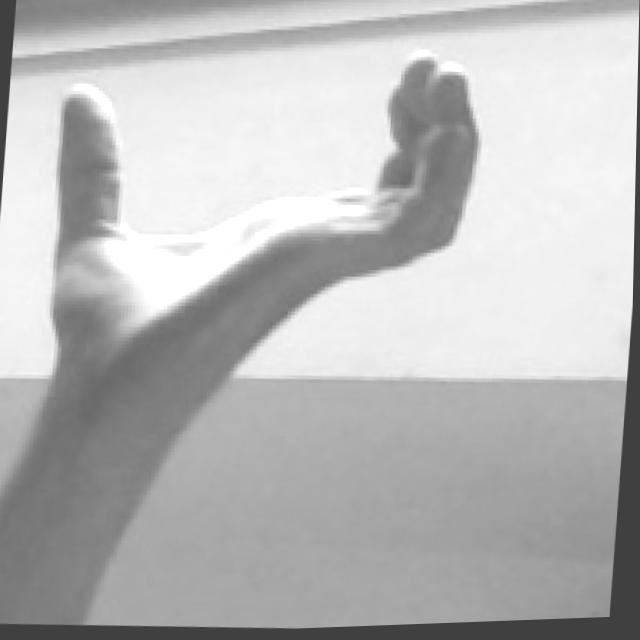space: (41, 22, 493, 366)
